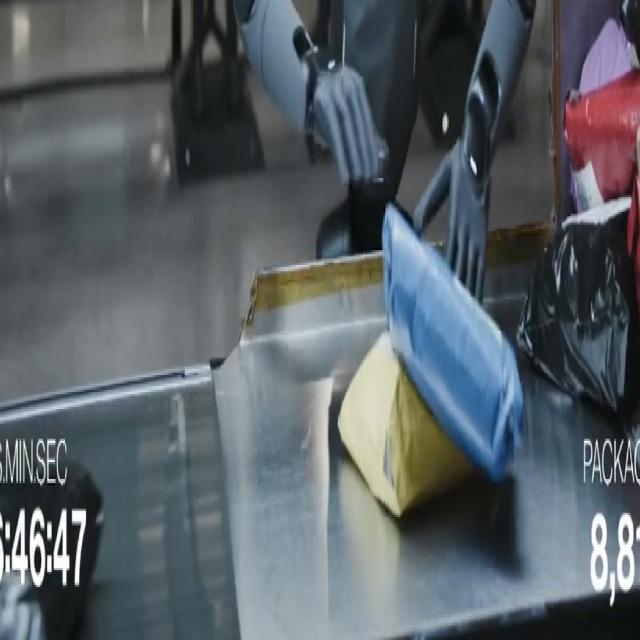package: (383, 206, 523, 481), (517, 198, 639, 413), (338, 333, 473, 517), (0, 460, 103, 639), (564, 70, 639, 209), (580, 20, 631, 95), (628, 176, 639, 309), (619, 0, 639, 67)
